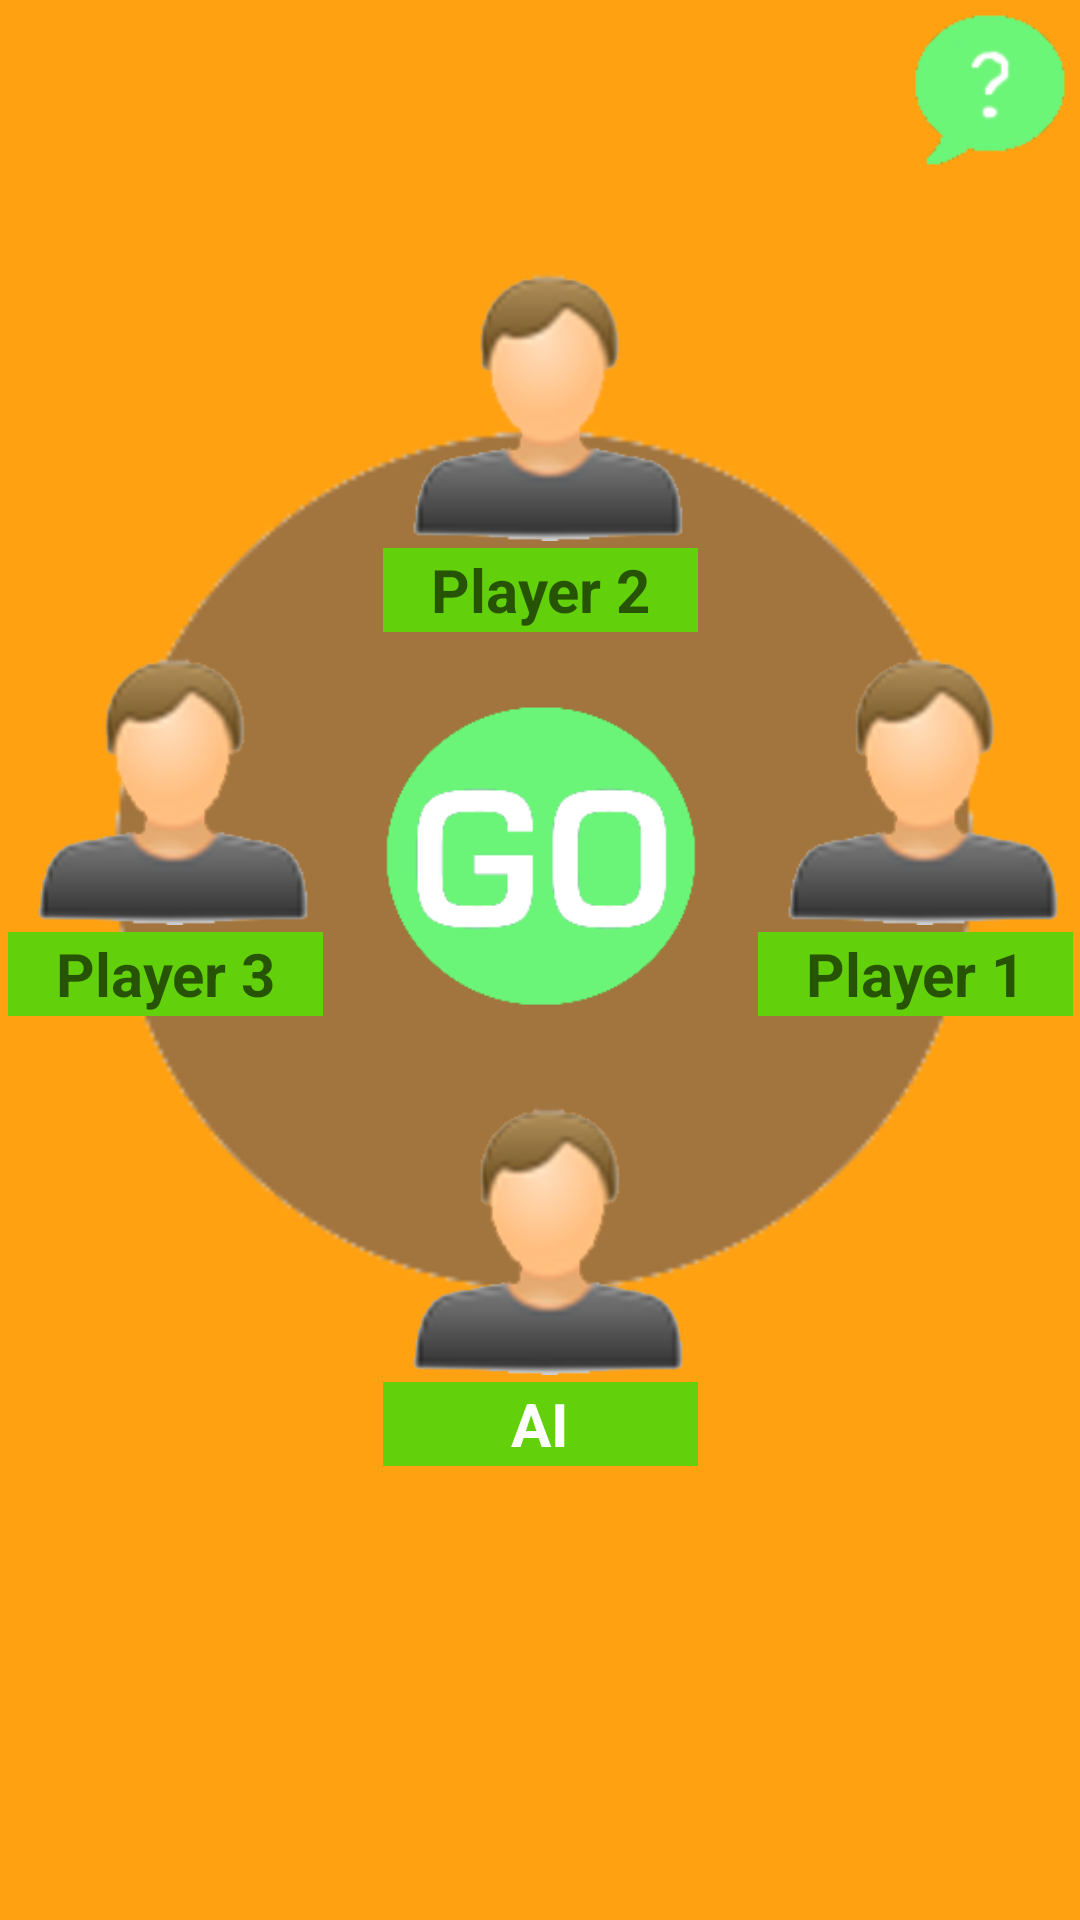

Screen size 1080x1920. Icon name, then its box in pixels as (x1, y1, x2, y2):
ask question: (915, 15, 1065, 165)
